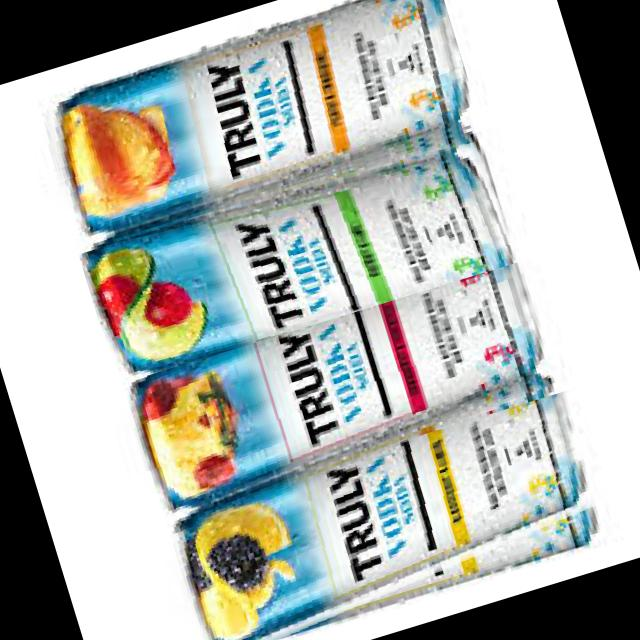Cans: (113, 246, 570, 536), (73, 113, 523, 383), (26, 0, 483, 254), (157, 389, 613, 640)
